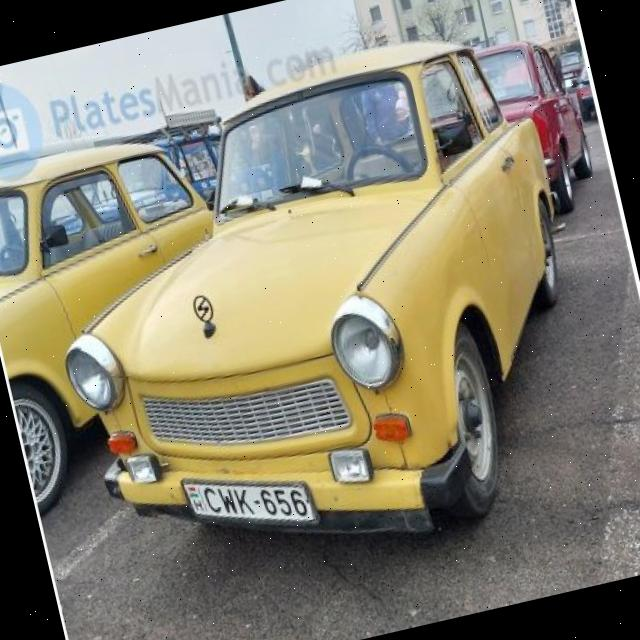licence: (179, 451, 322, 554)
